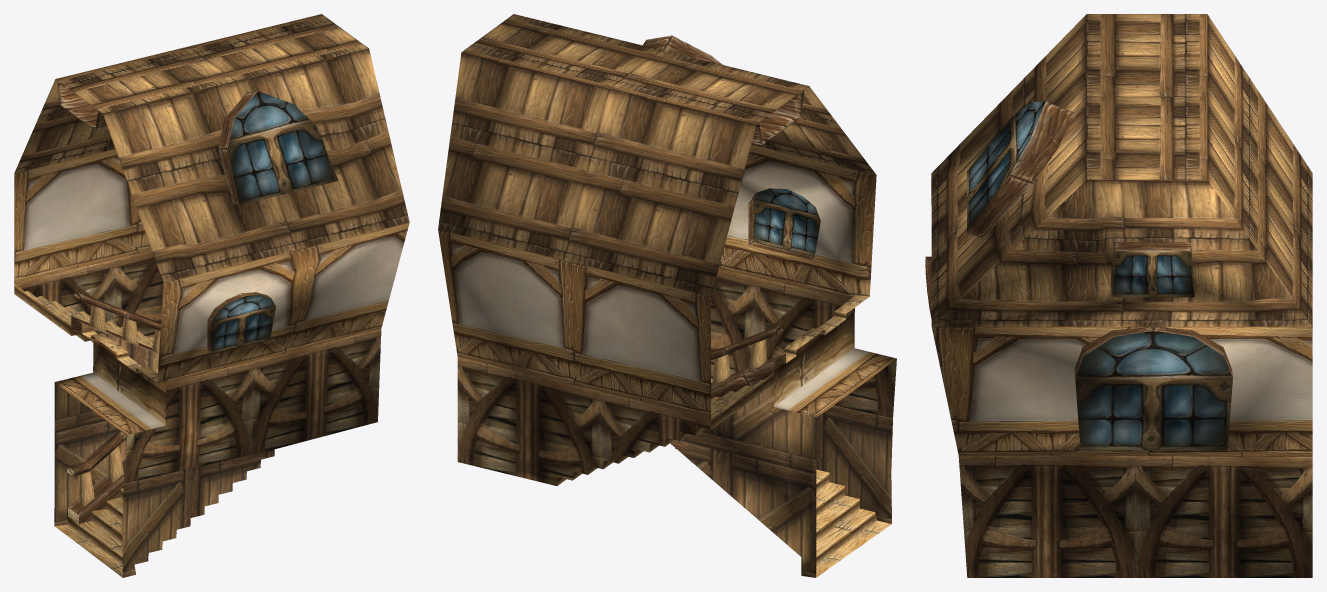
File: stormwind_210.fbx
3 views of the same model, side by side, from view 1: azimuth 30°, elevation 25°; view 2: azimuth 150°, elevation 25°; view 3: azimuth 270°, elevation 25° (orthographic). The views are drawn at different scales.
Visible parts, largest first — view 1: stormwind_210_55, stormwind_210_48, stormwind_210_49, stormwind_210_53, stormwind_210_56, stormwind_210_84, stormwind_210_54; view 2: stormwind_210_55, stormwind_210_48, stormwind_210_49, stormwind_210_56, stormwind_210_53, stormwind_210_84, stormwind_210_54; view 3: stormwind_210_55, stormwind_210_49, stormwind_210_48, stormwind_210_84, stormwind_210_53.
Boxes of the visible parts, box(x1,y1,x2,y2) form: stormwind_210_55: box(14, 14, 409, 282); stormwind_210_48: box(14, 149, 409, 434); stormwind_210_49: box(15, 250, 381, 483); stormwind_210_53: box(14, 81, 270, 577); stormwind_210_56: box(54, 324, 274, 577); stormwind_210_84: box(211, 91, 338, 353); stormwind_210_54: box(67, 305, 160, 523); stormwind_210_55: box(438, 14, 876, 295); stormwind_210_48: box(438, 144, 896, 418); stormwind_210_49: box(457, 268, 896, 485); stormwind_210_56: box(670, 353, 892, 577); stormwind_210_53: box(557, 35, 891, 577); stormwind_210_84: box(753, 188, 820, 256); stormwind_210_54: box(712, 339, 766, 384); stormwind_210_55: box(931, 14, 1312, 326); stormwind_210_49: box(958, 455, 1312, 577); stormwind_210_48: box(932, 307, 1312, 456); stormwind_210_84: box(967, 101, 1232, 450); stormwind_210_53: box(925, 101, 1232, 448).
Bounding box in the file's own units: 11.33 × 15.25 × 9.91.
